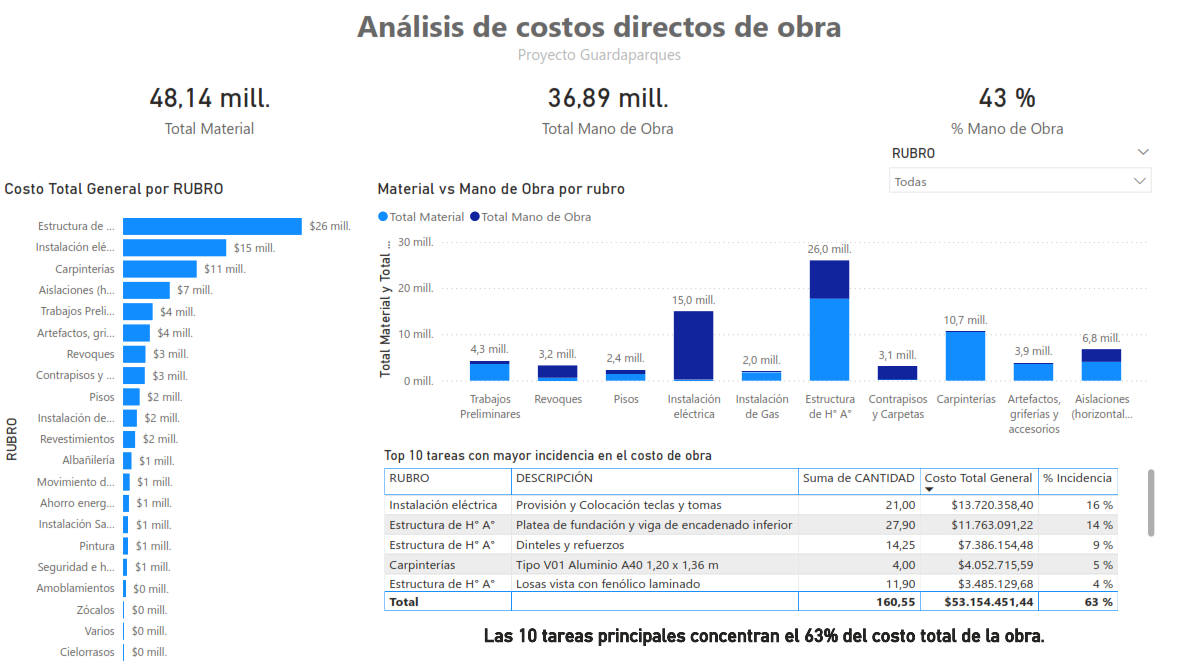

Layout of this report page (visuals, bound fields, positions):
{"tool":"powerbi","page":{"name":"Análisis de Obra","canvas":[1280,720],"ordinal":1},"visuals":[{"type":"card","fields":{"Values":["Medidas.Total Material"]},"box":[108.6,63.3,230,100],"z":0},{"type":"card","fields":{"Values":["Medidas.Total Mano de Obra"]},"box":[534.3,63.3,230,100],"z":1000},{"type":"card","fields":{"Values":["Medidas.% Mano de Obra"]},"box":[960,63.3,230,100],"z":2000},{"type":"barChart","fields":{"Category":["COSTOS_BI.RUBRO"],"Y":["Medidas.Costo Total General"]},"box":[0,191.7,386.7,528.3],"z":3000},{"type":"columnChart","title":"Material vs Mano de Obra por rubro","fields":{"Category":["COSTOS_BI.RUBRO"],"Y":["Medidas.Total Material","Medidas.Total Mano de Obra"]},"box":[398.3,191.7,833.3,281.7],"z":4000},{"type":"tableEx","title":"Top 10 tareas con mayor incidencia en el costo de obra","fields":{"Values":["COSTOS_BI.RUBRO","COSTOS_BI.DESCRIPCIÓN","Sum(COSTOS_BI.CANTIDAD)","Medidas.Costo Total General","Medidas.% Incidencia"]},"box":[405,478.3,833.3,178.3],"z":5000},{"type":"slicer","fields":{"Values":["COSTOS_BI.RUBRO"]},"box":[938.6,151.4,300,61.4],"z":6000},{"type":"card","fields":{"Values":["Medidas.Texto Ejecutivo Gerente de Obra"]},"box":[440,655.7,751.4,45.7],"z":7000},{"type":"textbox","box":[367.1,0,545.7,74.3],"z":8000}]}

Visuals, with their boxes in screenshot pixels (x1, y1, x2, y2), scaled from the page's 1280x720 canvas onto the 1198x667 screenshot:
card - Medidas.Total Material: l=102, t=59, r=317, b=151
card - Medidas.Total Mano de Obra: l=500, t=59, r=715, b=151
card - Medidas.% Mano de Obra: l=898, t=59, r=1114, b=151
barChart - COSTOS_BI.RUBRO x Medidas.Costo Total General: l=0, t=178, r=362, b=666
"Material vs Mano de Obra por rubro" columnChart: l=373, t=178, r=1153, b=439
"Top 10 tareas con mayor incidencia en el costo de obra" tableEx: l=379, t=443, r=1159, b=608
slicer - COSTOS_BI.RUBRO: l=878, t=140, r=1159, b=197
card - Medidas.Texto Ejecutivo Gerente de Obra: l=412, t=607, r=1115, b=650
textbox: l=344, t=0, r=854, b=69
